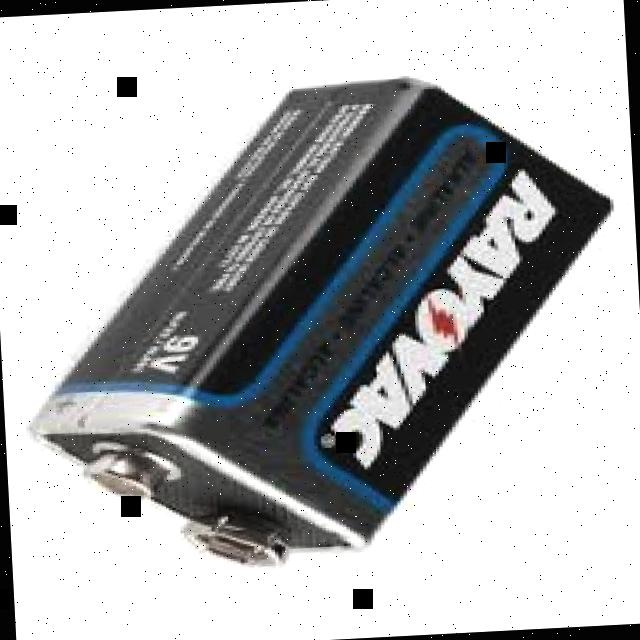battery: (25, 76, 615, 568)
